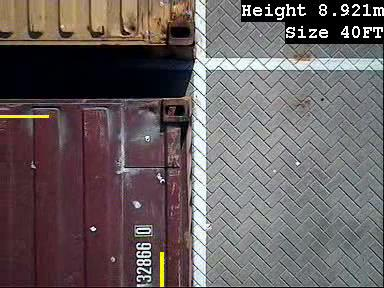groundmarker_2: (197, 66, 251, 135), (196, 250, 227, 288)
